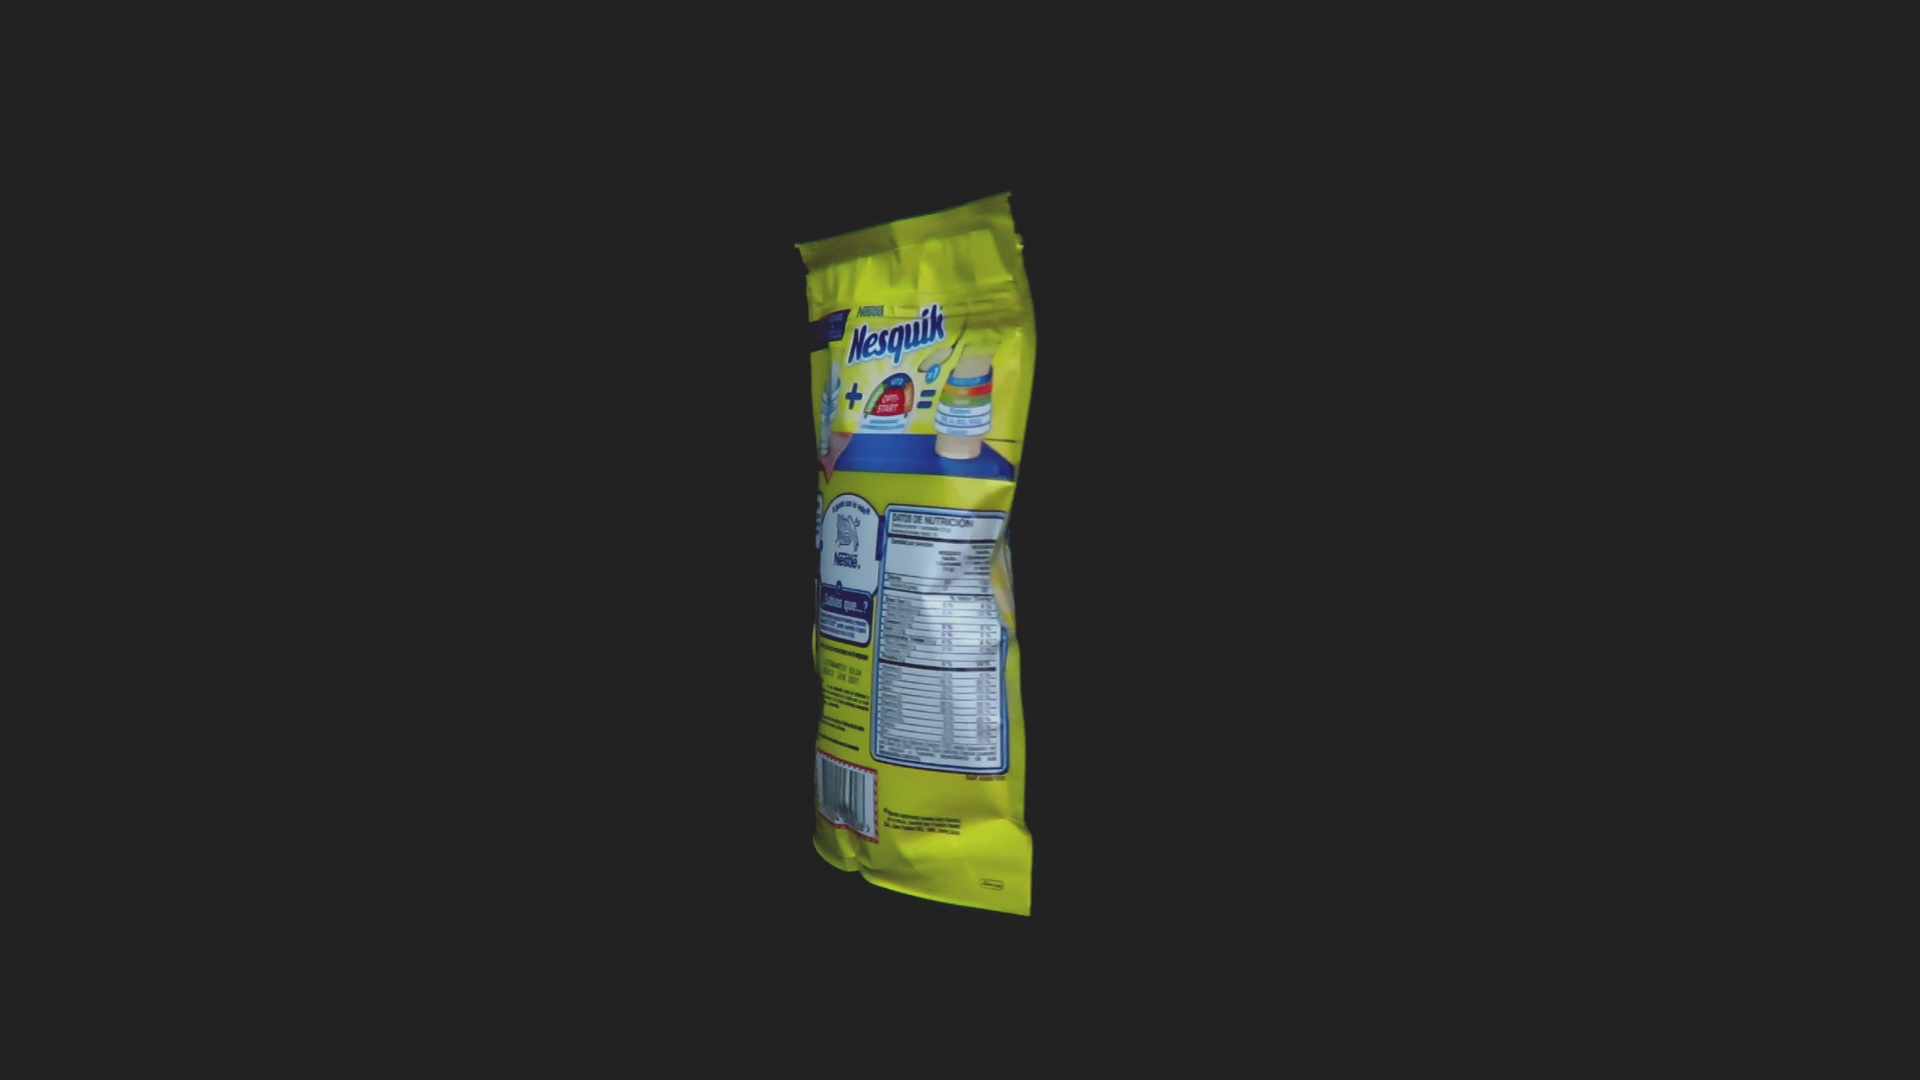COL0170306DYP20000: (790, 186, 1043, 923)
